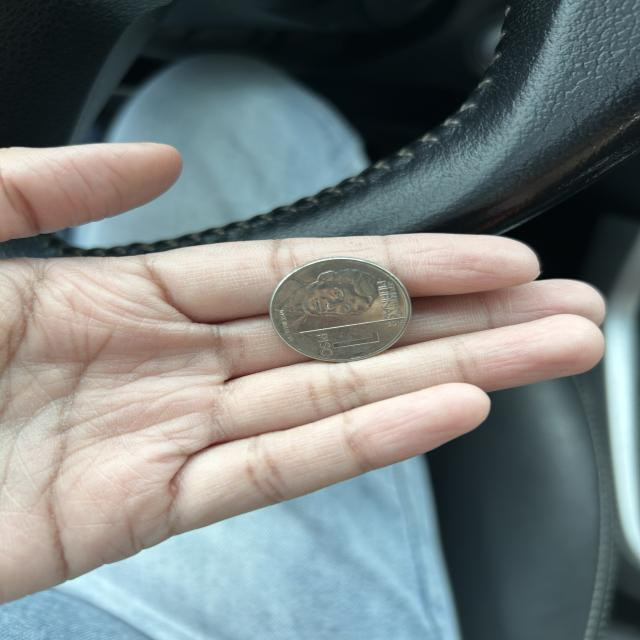1_New_Front: (310, 324, 378, 366)
